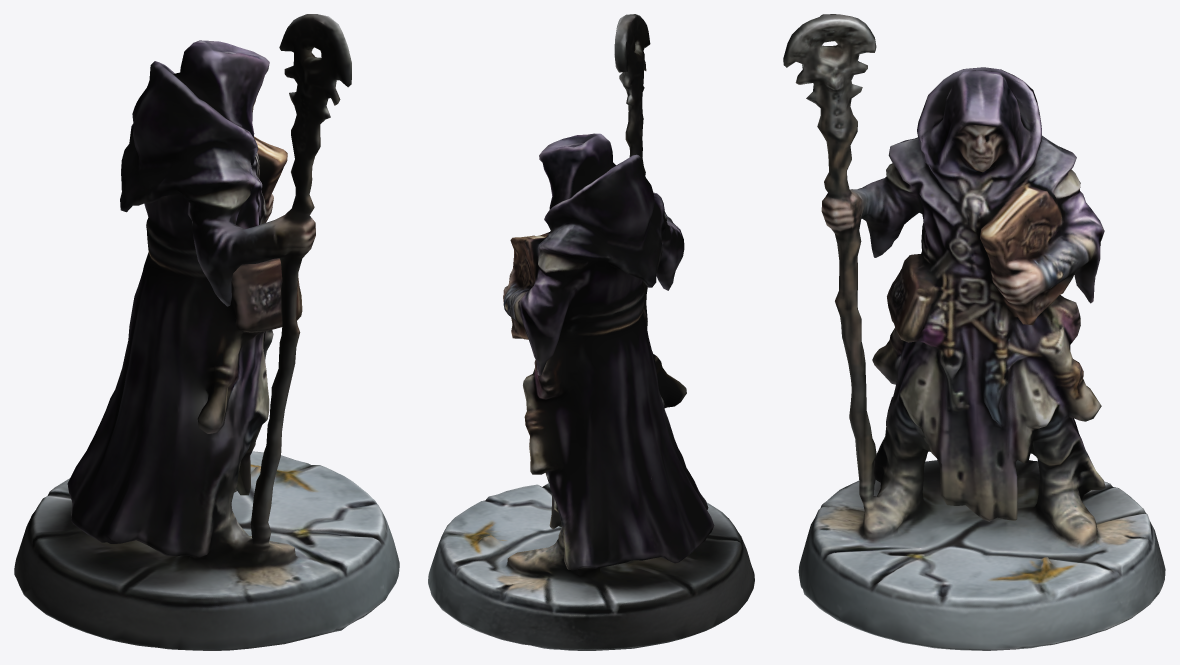
Rendered from necromancer.glb.
The picture shows the model from 3 angles, left to right: view 1: azimuth 30°, elevation 25°; view 2: azimuth 150°, elevation 25°; view 3: azimuth 270°, elevation 25°; orthographic projection. The views are drawn at different scales.
Parts seen in each view (by area): view 1: lagrange_node; view 2: lagrange_node; view 3: lagrange_node.
Boxes of the visible parts, <box> form: lagrange_node: <box>14,14,399,650</box>; lagrange_node: <box>428,14,754,650</box>; lagrange_node: <box>783,14,1165,650</box>.
Bounding box in the file's own units: 1.16 × 1.99 × 1.2.
1 material, 1 textured.
